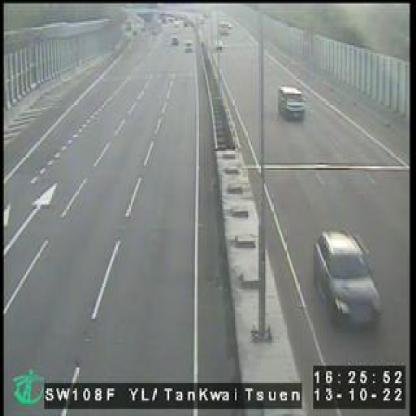Car: (313, 224, 386, 334), (278, 82, 310, 124), (184, 37, 193, 50), (170, 35, 178, 46)
